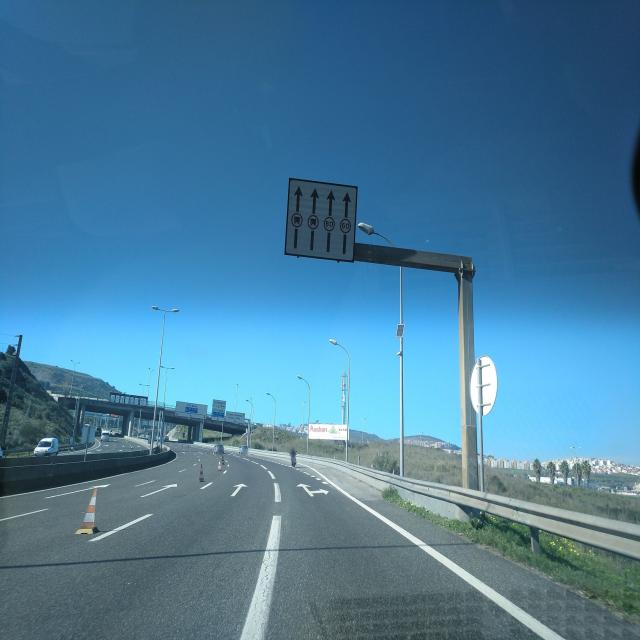car: (33, 437, 59, 456)
